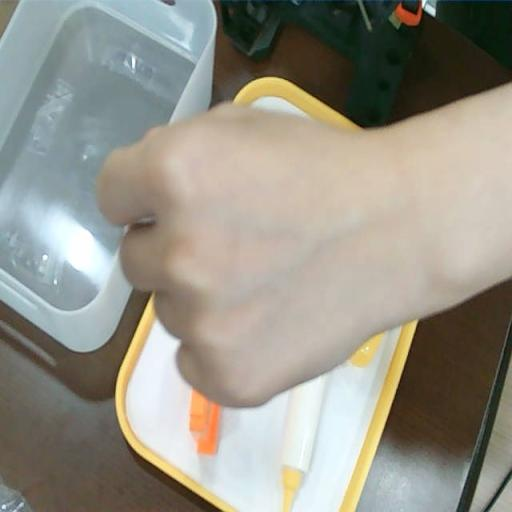hospital: (97, 104, 415, 409)
